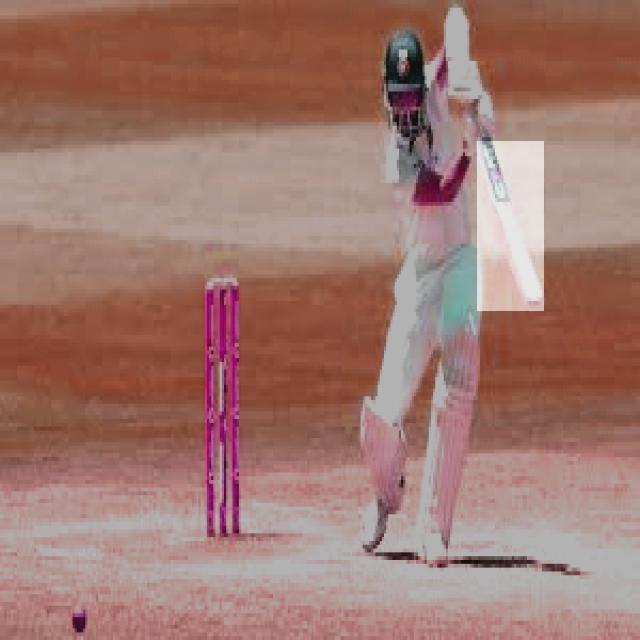bat: (477, 143, 545, 308)
toe: (524, 293, 547, 309)
